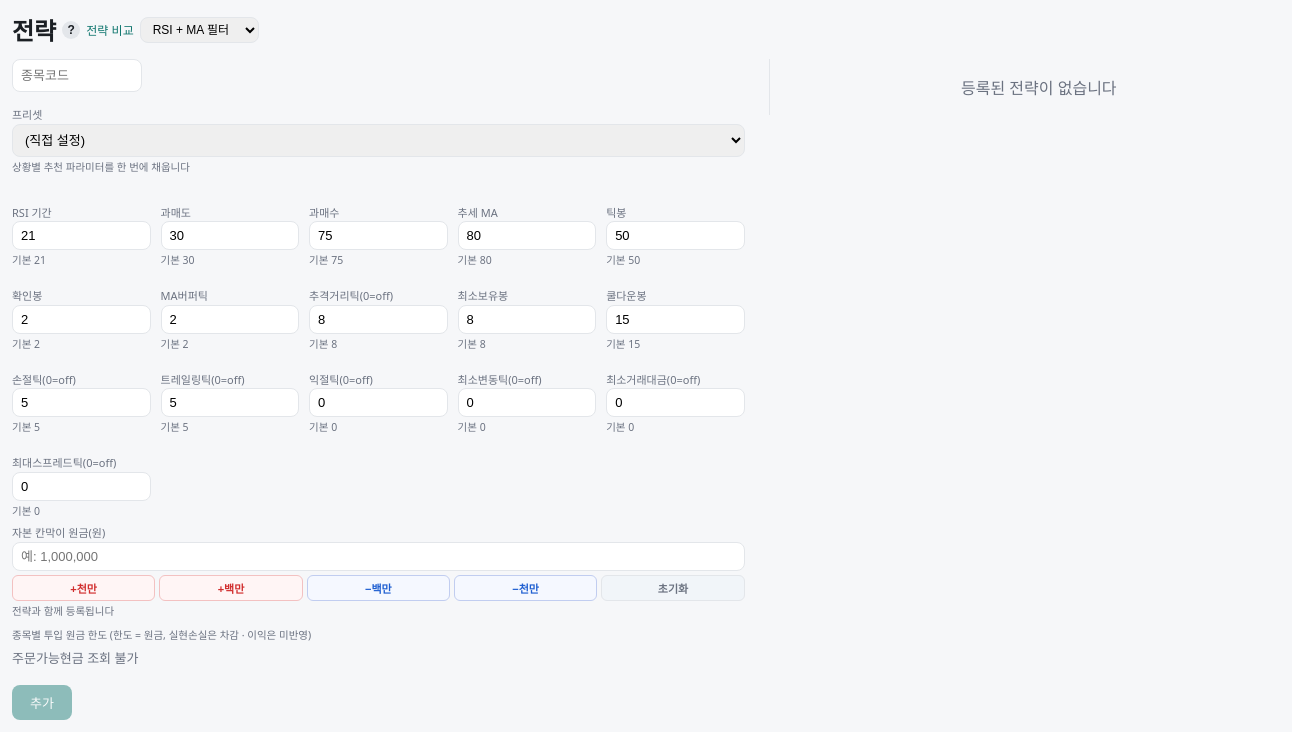
Test: StrategyPanel › 종목코드 입력 시 옆에 종목명을 표시
Type "005930" into the field named "전략 종목코드". click: (77, 76)
box: x1=12 y1=59 x2=142 y2=92
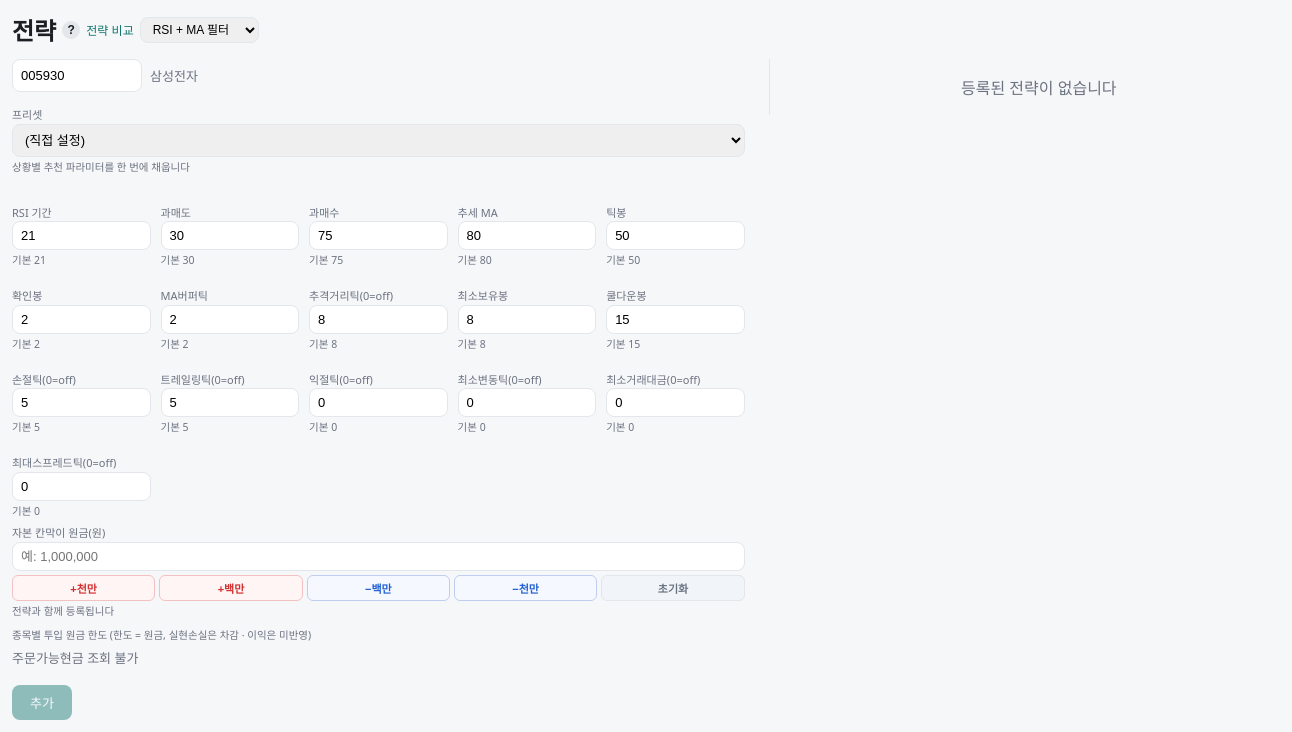
expect the text "삼성전자" is shown: met, box x1=150 y1=66 x2=198 y2=85
